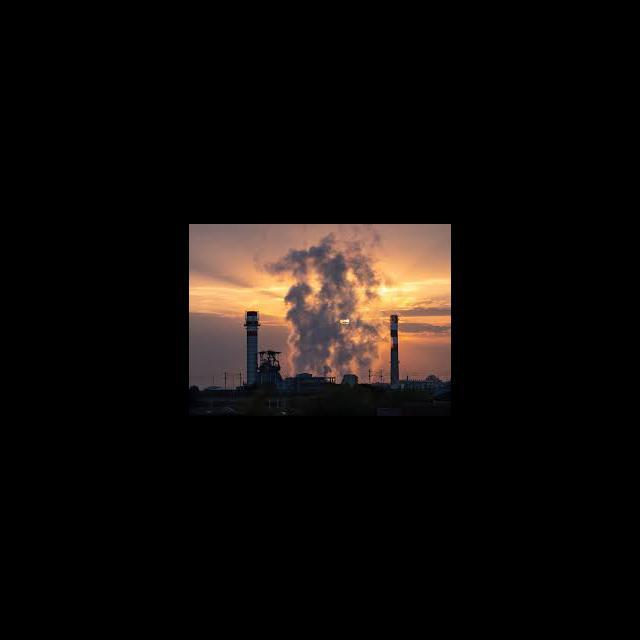Smoke: (286, 244, 354, 372)
